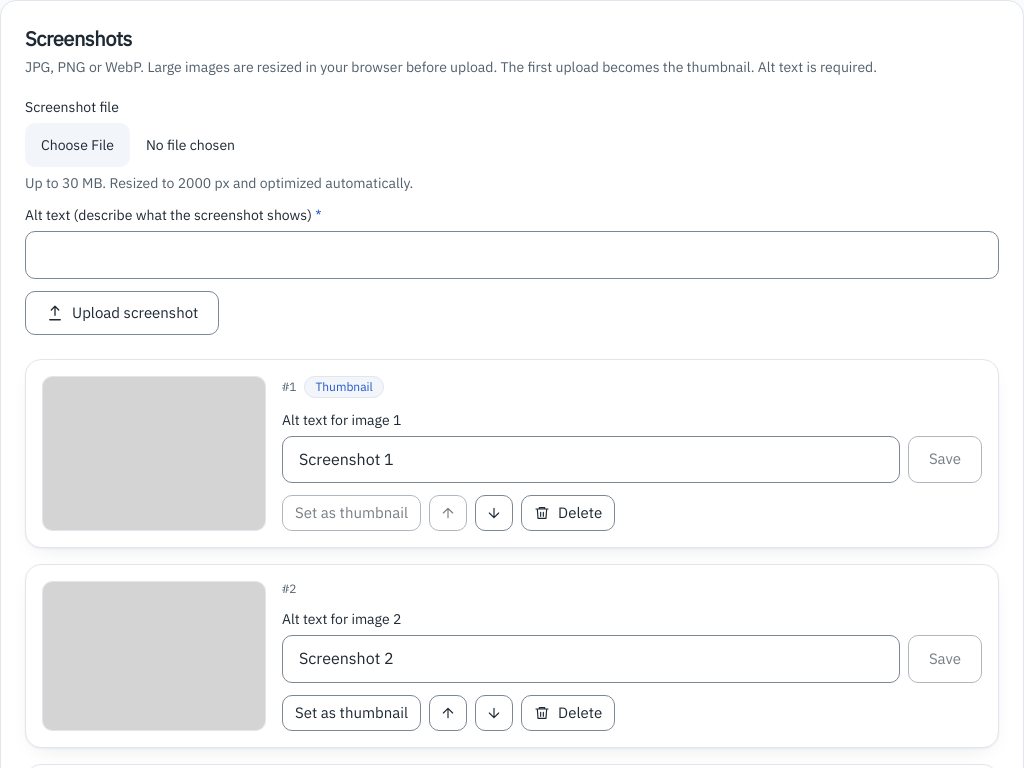
Test case: ImageManager: managing › reorders by sending the full order, and rolls back on failure
Click the button named "Move image 1 later": (494, 513) [475,495,513,531]
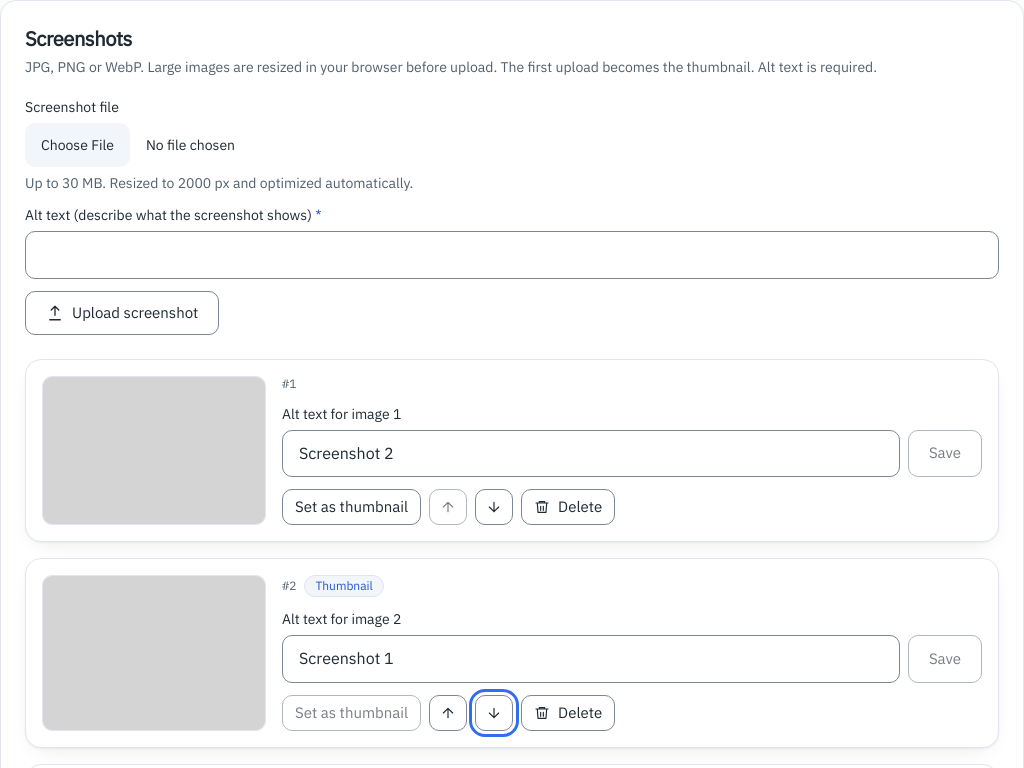
Click the button named "Move image 2 later": (494, 713) [475,695,513,731]
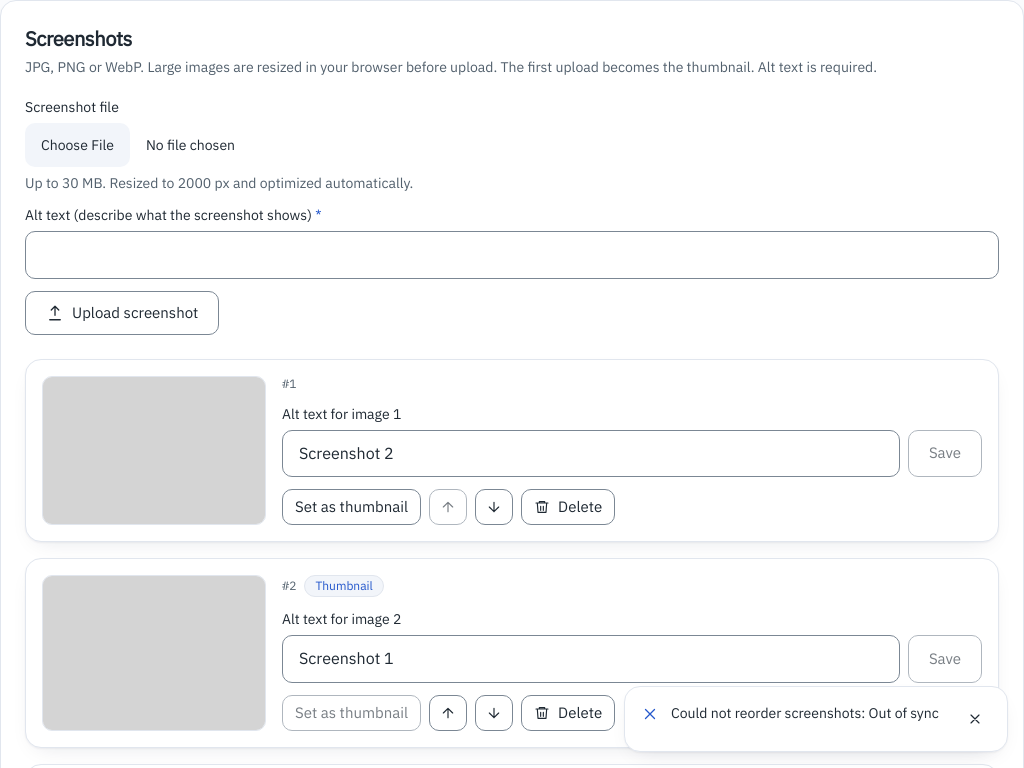
Expected: the text "Could not reorder screenshots: Out of sync" is shown, [671,703,947,723]
